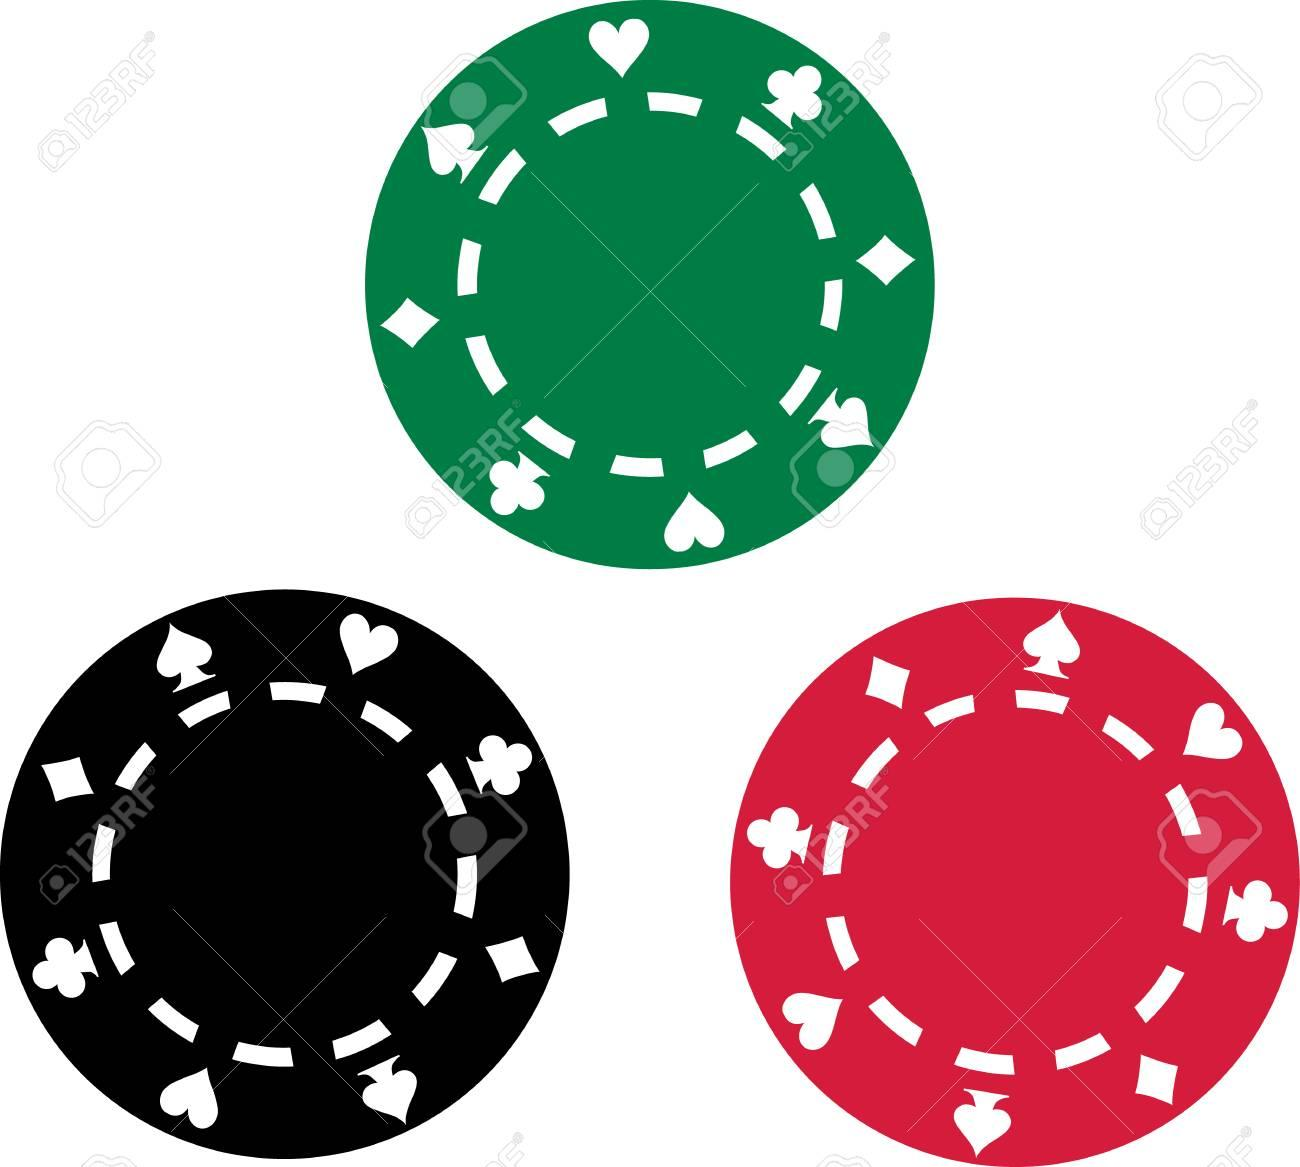chip-red: (0, 589, 569, 1157), (366, 2, 934, 568), (731, 599, 1300, 1162)
